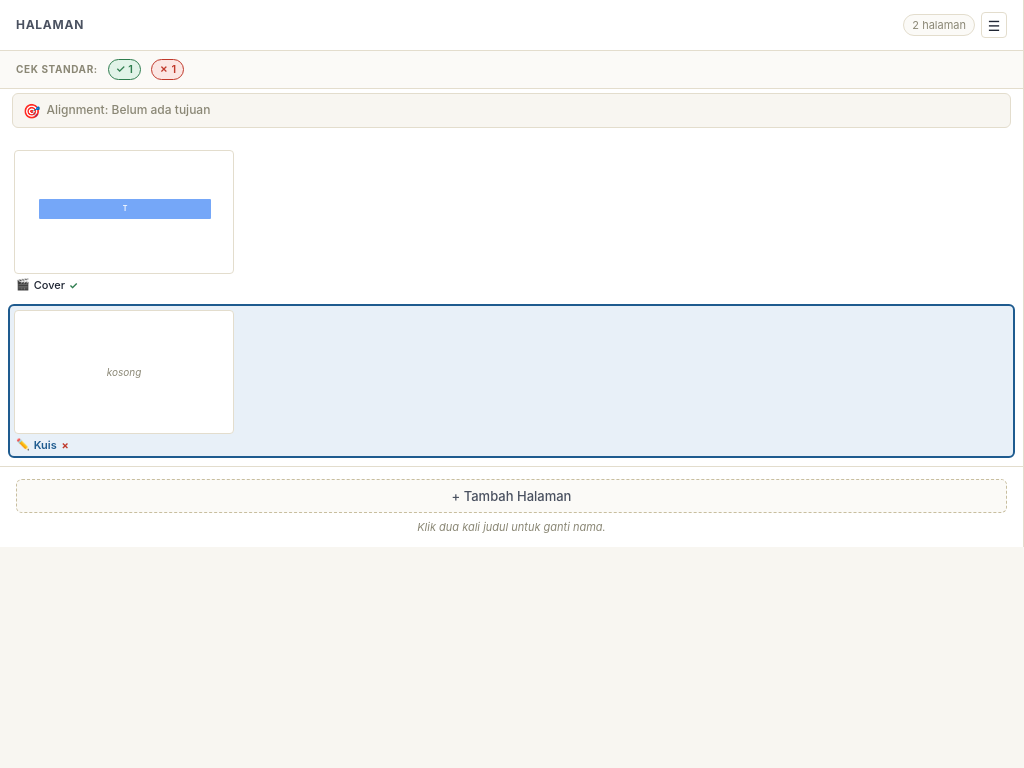
it: UX-02 — PagePanel rendering › active page with issues shows inline issue list by default
This screenshot has width=1024, height=768.
Now active page is the quiz page
Click the button with test id "page-panel-view-toggle".
click(994, 25)  # box [981,12,1007,38]
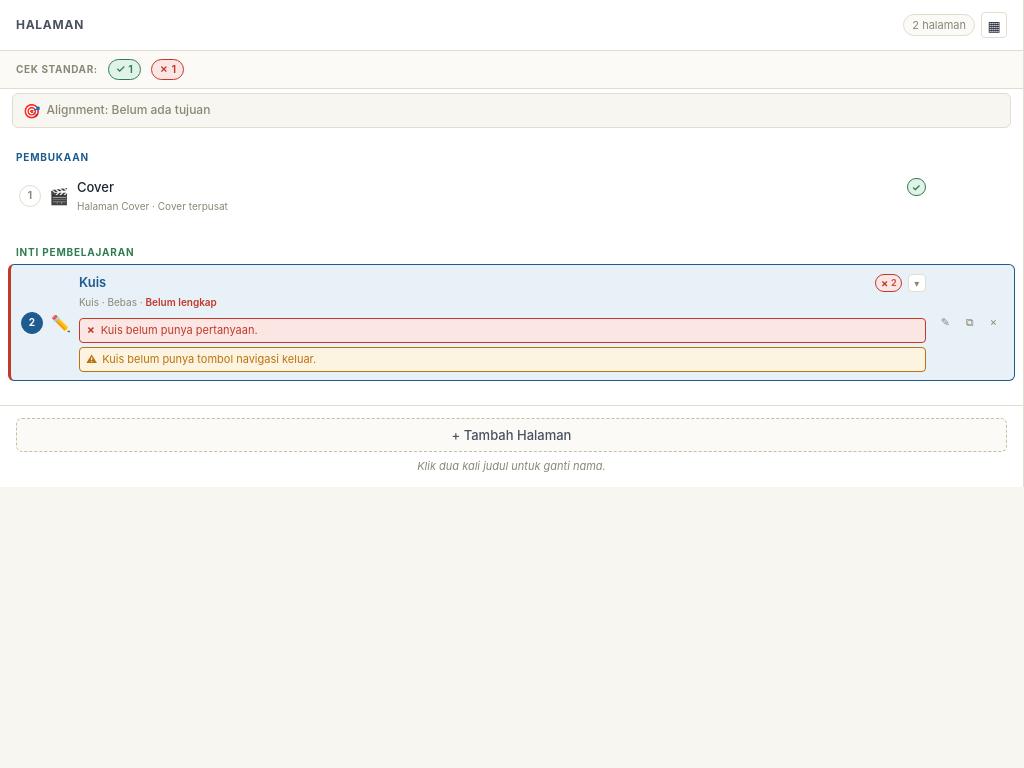
Result: the list is shown at [79,318,926,372]
